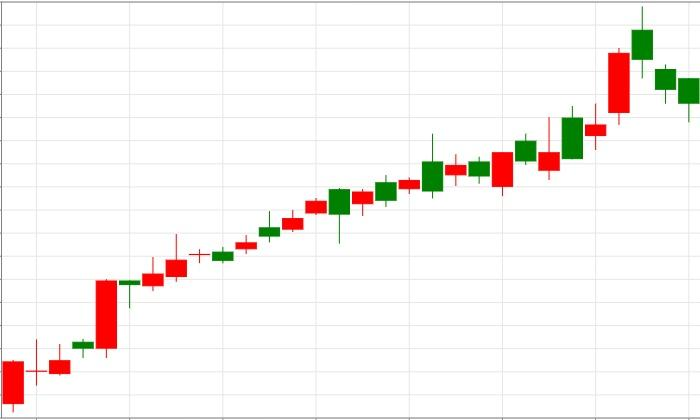bearish_engulfing_fall: (2, 188, 351, 412)
